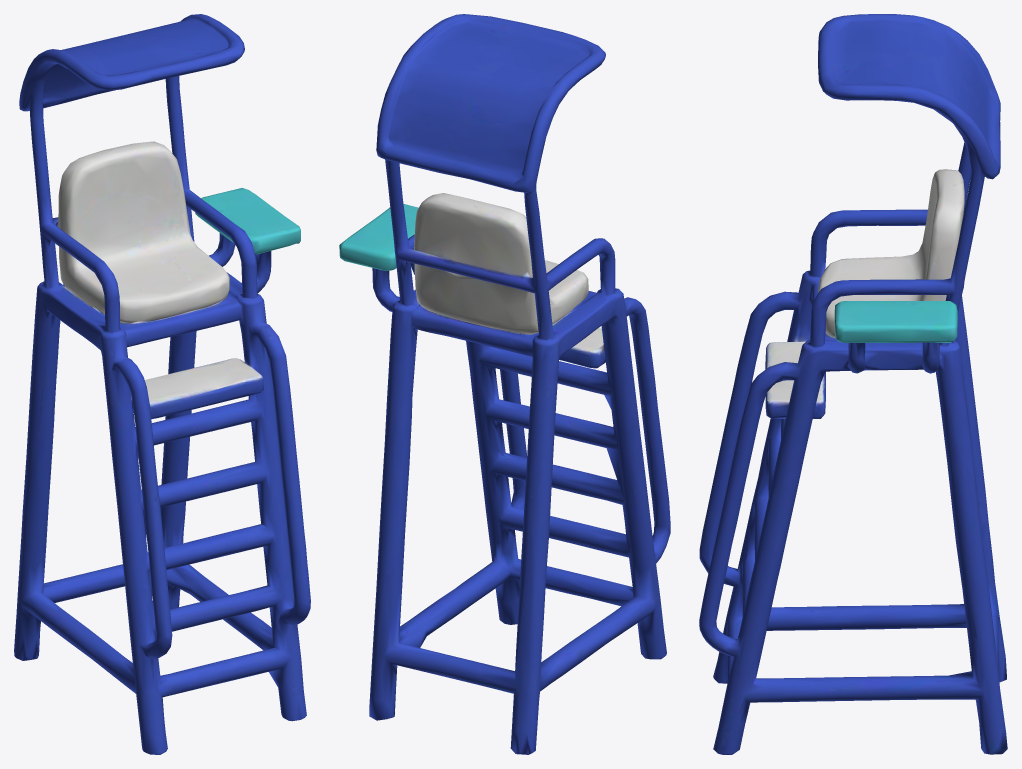
The model's file is chair.glb.
3 renders of one model, left to right at view 1: azimuth 30°, elevation 25°; view 2: azimuth 150°, elevation 25°; view 3: azimuth 270°, elevation 25°, orthographic. The views are drawn at different scales.
Visible parts, largest first — view 1: tripo_node_21b9648f-c9c9-42e8-8814-4ee999fd4813; view 2: tripo_node_21b9648f-c9c9-42e8-8814-4ee999fd4813; view 3: tripo_node_21b9648f-c9c9-42e8-8814-4ee999fd4813.
Part boxes in pixels (left/top/right/bottom): tripo_node_21b9648f-c9c9-42e8-8814-4ee999fd4813: left=14, top=14, right=310, bottom=754; tripo_node_21b9648f-c9c9-42e8-8814-4ee999fd4813: left=339, top=14, right=670, bottom=754; tripo_node_21b9648f-c9c9-42e8-8814-4ee999fd4813: left=699, top=14, right=1007, bottom=754.
Bounding box in the file's own units: 0.3501 × 1 × 0.4201.
1 material, 1 textured.
